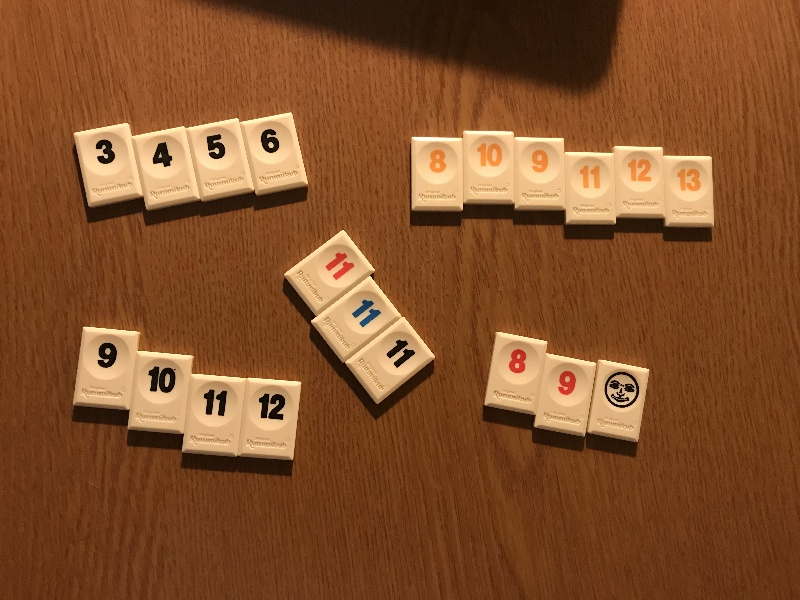single_tile: (345, 315, 435, 407), (283, 228, 377, 316), (309, 278, 402, 363), (74, 122, 145, 210), (137, 123, 204, 213), (187, 118, 256, 203), (242, 111, 310, 195), (74, 326, 140, 411), (182, 372, 244, 459), (534, 352, 596, 438), (129, 351, 194, 433), (241, 374, 302, 461), (586, 360, 649, 442), (484, 332, 547, 413), (409, 133, 466, 214), (463, 127, 518, 207), (565, 148, 619, 228), (514, 135, 569, 212), (613, 142, 667, 219), (663, 153, 717, 230)
tile_row: (408, 127, 719, 233), (69, 326, 303, 466), (281, 226, 437, 406), (74, 112, 311, 218), (484, 328, 652, 445)
